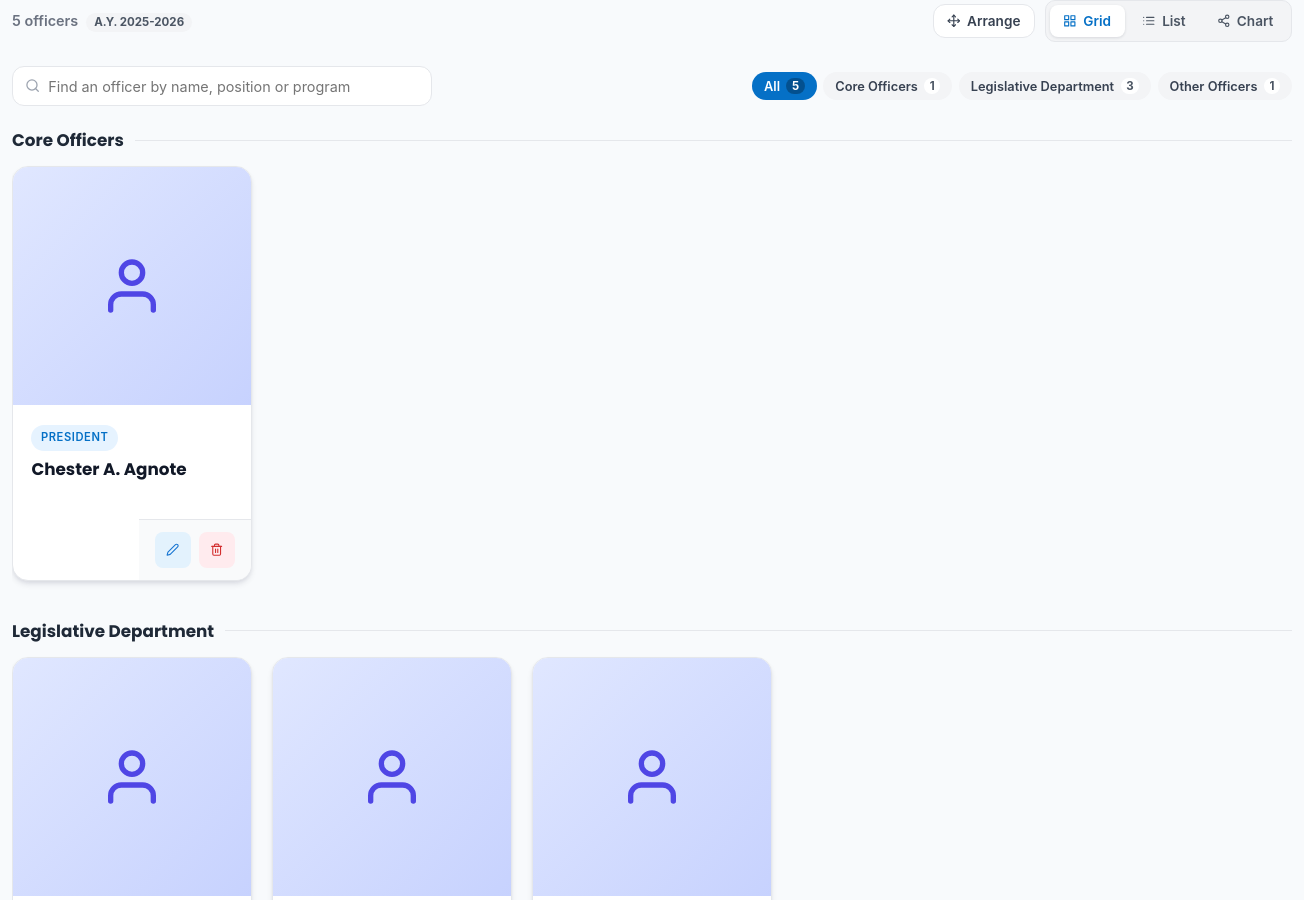
Test: admin controls › hides the edit and delete buttons while arranging, so the two do not collide
expect the button with class "admin-edit-btn" is shown: met, box [155,532,191,568]
What coordinates should you click on to do the following:
click the button with class "officer-arrange-btn"
I would click on:
 (984, 21)
Its box is [932,4,1035,38].
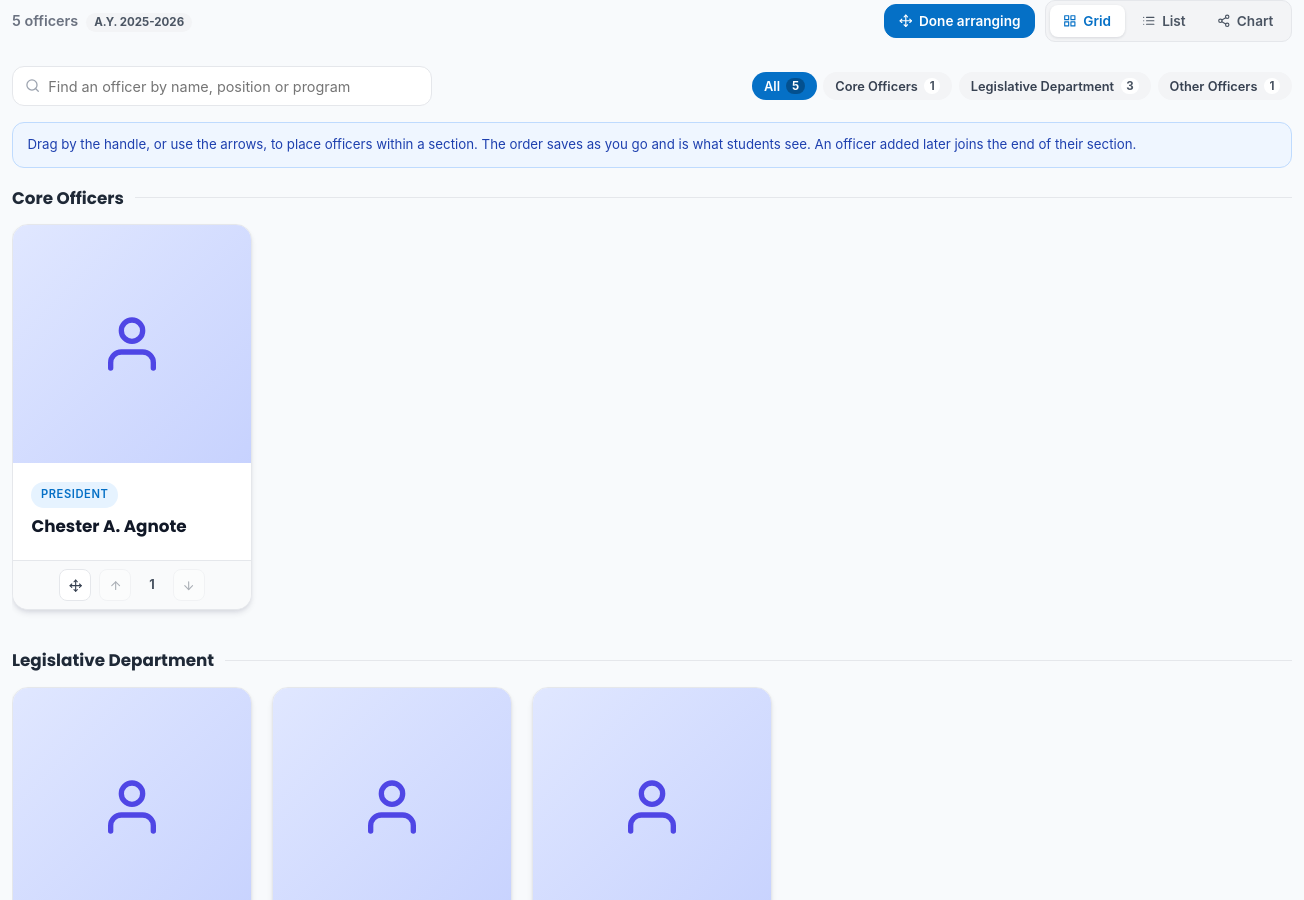
expect no buttons with class "admin-edit-btn" are shown: met
